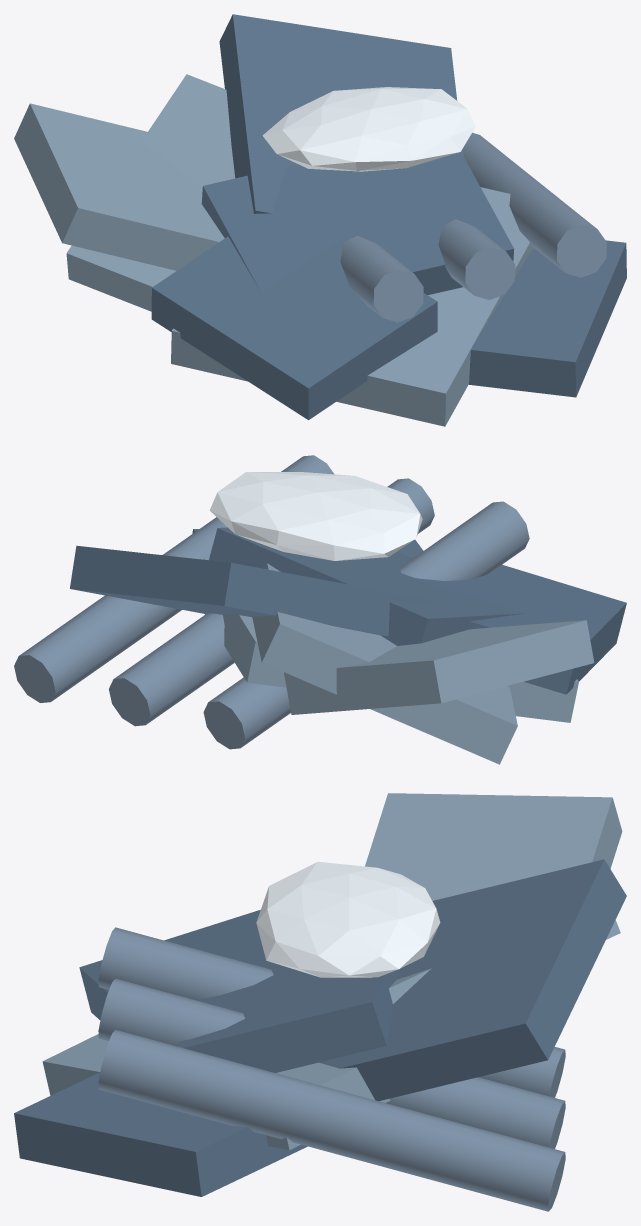
The model's file is cover-scrap-snowy.glb.
The picture shows the model from 3 angles, top to bottom: view 1: azimuth 30°, elevation 25°; view 2: azimuth 150°, elevation 25°; view 3: azimuth 270°, elevation 25°; orthographic projection. The views are drawn at different scales.
Parts seen in each view (by area): view 1: cover-scrap-kit-snowy-dark, cover-scrap-kit-snowy-metal, cover-scrap-kit-snowy-shade, cover-scrap-kit-snowy-top; view 2: cover-scrap-kit-snowy-dark, cover-scrap-kit-snowy-metal, cover-scrap-kit-snowy-shade, cover-scrap-kit-snowy-top; view 3: cover-scrap-kit-snowy-dark, cover-scrap-kit-snowy-shade, cover-scrap-kit-snowy-metal, cover-scrap-kit-snowy-top.
Boxes of the visible parts, x1,y1,x2,y2 form: cover-scrap-kit-snowy-dark: (151, 14, 626, 420); cover-scrap-kit-snowy-metal: (14, 74, 533, 426); cover-scrap-kit-snowy-shade: (340, 132, 606, 322); cover-scrap-kit-snowy-top: (262, 87, 475, 171); cover-scrap-kit-snowy-dark: (70, 527, 626, 694); cover-scrap-kit-snowy-metal: (204, 558, 594, 764); cover-scrap-kit-snowy-shade: (14, 455, 529, 749); cover-scrap-kit-snowy-top: (209, 472, 422, 560); cover-scrap-kit-snowy-dark: (14, 859, 626, 1196); cover-scrap-kit-snowy-shade: (98, 927, 565, 1211); cover-scrap-kit-snowy-metal: (42, 793, 622, 1150); cover-scrap-kit-snowy-top: (256, 861, 440, 977).
Size of the model in its own units: 1.89 by 0.8375 by 1.77.
